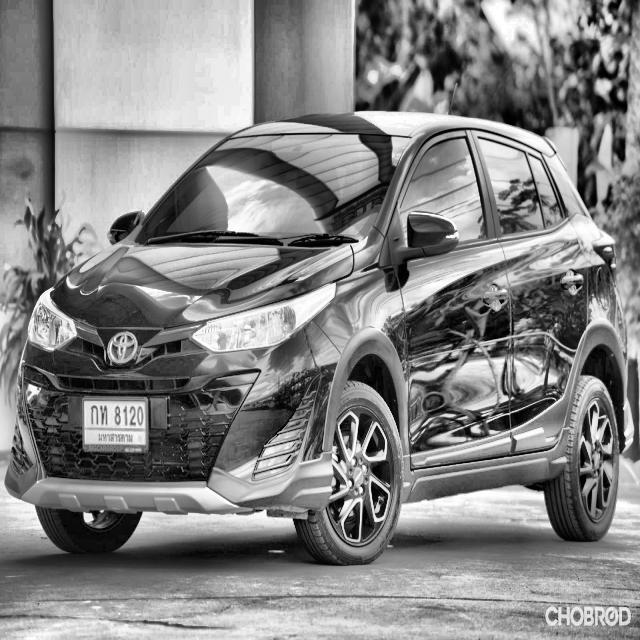license-plate: (82, 396, 149, 453)
